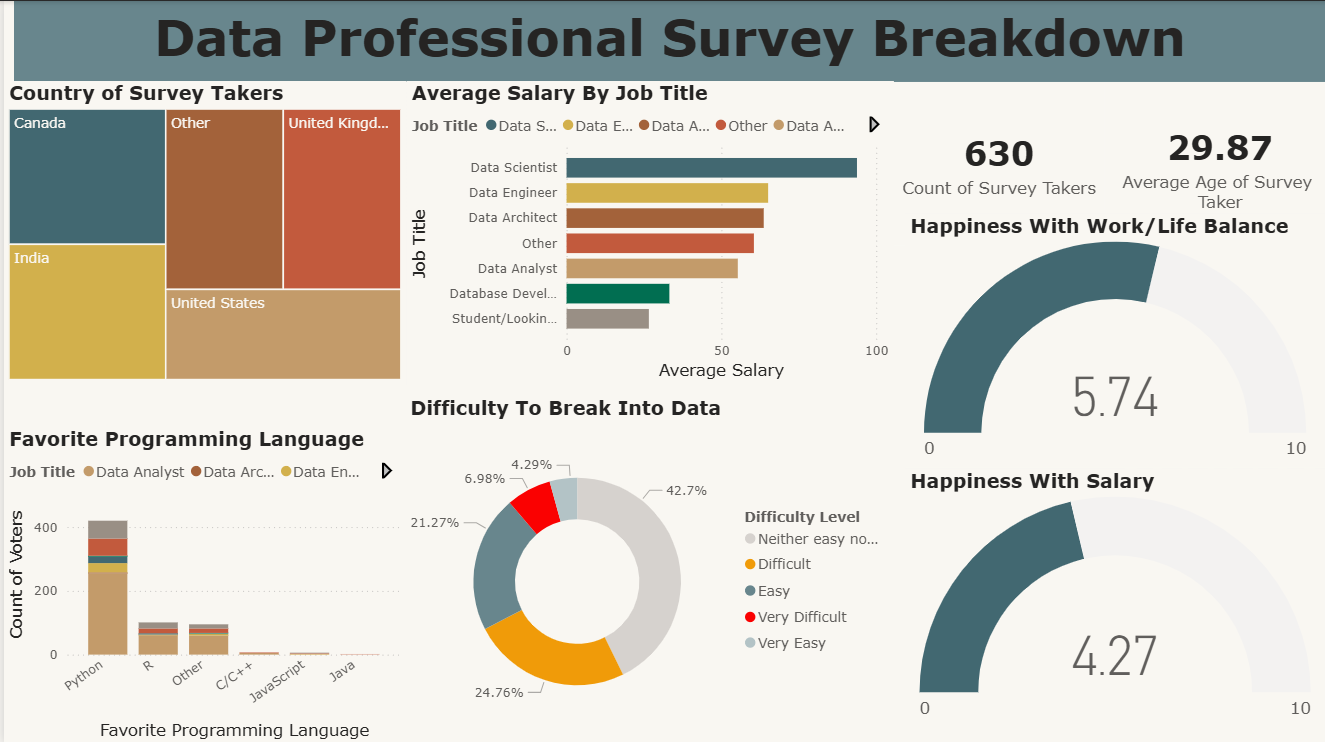

Layout of this report page (visuals, bound fields, positions):
{"tool":"powerbi","page":{"name":"Page 1","canvas":[1280,720],"ordinal":0},"visuals":[{"type":"textbox","box":[10,0,1270,78.2],"z":0},{"type":"card","fields":{"Values":["Count(Data Professional Survey.Unique ID)"]},"box":[861.4,78.5,203.7,158.3],"z":1},{"type":"card","fields":{"Values":["Avg(Data Professional Survey.Q10 - Current Age)"]},"box":[1076.1,78.7,203.4,146.5],"z":2},{"type":"barChart","title":"Average Salary By Job Title","fields":{"Category":["Data Professional Survey.Q1 - Which Title Best Fits your Current Role?.1"],"Series":["Data Professional Survey.Q1 - Which Title Best Fits your Current Role?.1"],"Y":["Avg(Data Professional Survey.Average Salary)"]},"box":[389.8,77.5,472.1,294.2],"z":3},{"type":"columnChart","title":"Favorite Programming Language","fields":{"Category":["Data Professional Survey.Q5 - Favorite Programming Language.1"],"Series":["Data Professional Survey.Q1 - Which Title Best Fits your Current Role?.1"],"Y":["CountNonNull(Data Professional Survey.Unique ID)"]},"box":[0,412.6,389.5,307.3],"z":4},{"type":"treemap","title":"Country of Survey Takers","fields":{"Group":["Data Professional Survey.Q11 - Which Country do you live in?.1"],"Values":["Count(Data Professional Survey.Q11 - Which Country do you live in?.1)"]},"box":[0,77.9,389.5,294.3],"z":5},{"type":"gauge","title":"Happiness With Work/Life Balance","fields":{"MaxValue":["Max(Data Professional Survey.Q6 - How Happy are you in your Current Position with the following? (Work/Life Balance))"],"MinValue":["Min(Data Professional Survey.Q6 - How Happy are you in your Current Position with the following? (Work/Life Balance))"],"Y":["Avg(Data Professional Survey.Q6 - How Happy are you in your Current Position with the following? (Work/Life Balance))"]},"box":[872.9,206.3,406.9,246.7],"z":6},{"type":"gauge","title":"Happiness With Salary","fields":{"MaxValue":["Max(Data Professional Survey.Q6 - How Happy are you in your Current Position with the following? (Salary))"],"MinValue":["Min(Data Professional Survey.Q6 - How Happy are you in your Current Position with the following? (Salary))"],"Y":["Avg(Data Professional Survey.Q6 - How Happy are you in your Current Position with the following? (Salary))"]},"box":[872.9,453,406.9,251],"z":7},{"type":"donutChart","title":"Difficulty To Break Into Data","fields":{"Category":["Data Professional Survey.Q7 - How difficult was it for you to break into Data?"],"Y":["CountNonNull(Data Professional Survey.Q7 - How difficult was it for you to break into Data?)"]},"box":[389,382.8,472.4,337.4],"z":8}]}

Visuals, with their boxes in screenshot pixels (x1, y1, x2, y2), scaled from the page's 1280x720 canvas onto the 1325x742 screenshot:
textbox: left=10, top=0, right=1324, bottom=81
card - Count(Data Professional Survey.Unique ID): left=892, top=81, right=1103, bottom=244
card - Avg(Data Professional Survey.Q10 - Current Age): left=1114, top=81, right=1324, bottom=232
"Average Salary By Job Title" barChart: left=404, top=80, right=892, bottom=383
"Favorite Programming Language" columnChart: left=0, top=425, right=403, bottom=741
"Country of Survey Takers" treemap: left=0, top=80, right=403, bottom=384
"Happiness With Work/Life Balance" gauge: left=904, top=213, right=1324, bottom=467
"Happiness With Salary" gauge: left=904, top=467, right=1324, bottom=726
"Difficulty To Break Into Data" donutChart: left=403, top=394, right=892, bottom=741
